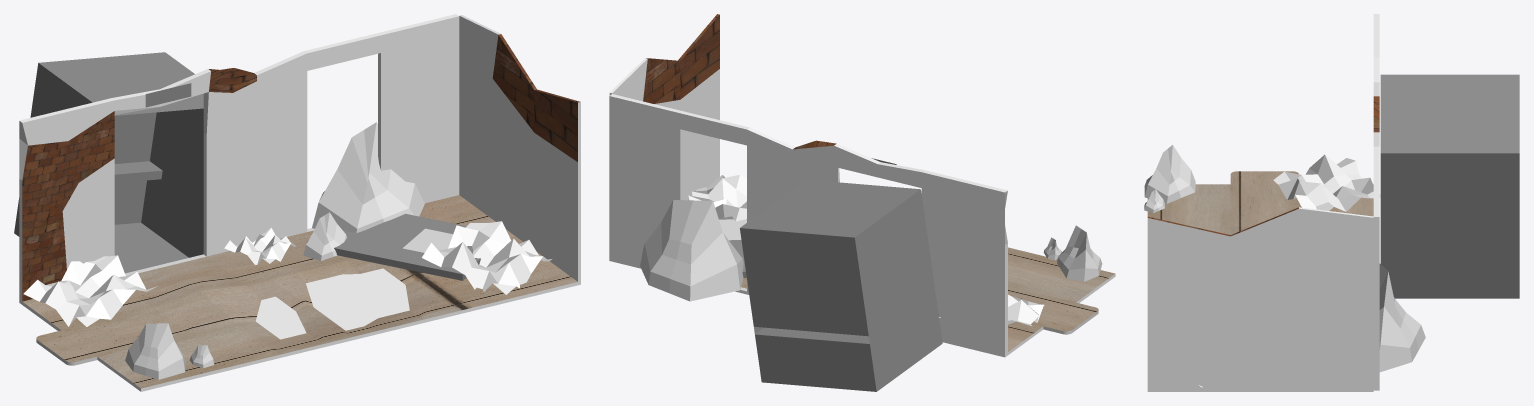
Rendered from pasillo_despues.glb.
The picture shows the model from 3 angles, left to right: view 1: azimuth 30°, elevation 25°; view 2: azimuth 150°, elevation 25°; view 3: azimuth 270°, elevation 25°; orthographic projection. The views are drawn at different scales.
Visible parts, largest first — view 1: Cubo, Cubo.001, Cubo.003, Plano subdividido.002, Plano subdividido, Cubo.002, Cubo.006, Plano subdividido.001, Cubo.004, Plano; view 2: Cubo, Cubo.001, Cubo.003, Plano subdividido.002, Cubo.006, Plano subdividido, Cubo.002; view 3: Cubo, Cubo.001, Plano subdividido, Cubo.003, Cubo.006, Cubo.005.
Boxes of the visible parts, <box> form: Cubo: <box>19,14,580,391</box>; Cubo.001: <box>14,52,203,273</box>; Cubo.003: <box>312,122,424,233</box>; Plano subdividido.002: <box>422,221,551,294</box>; Plano subdividido: <box>23,255,157,326</box>; Cubo.002: <box>334,213,480,280</box>; Cubo.006: <box>125,323,185,379</box>; Plano subdividido.001: <box>224,227,295,265</box>; Cubo.004: <box>303,212,346,260</box>; Plano: <box>145,83,191,107</box>; Cubo: <box>609,14,1115,357</box>; Cubo.001: <box>740,179,942,391</box>; Cubo.003: <box>640,200,743,301</box>; Plano subdividido.002: <box>688,175,746,221</box>; Cubo.006: <box>1057,225,1102,281</box>; Plano subdividido: <box>939,294,1044,326</box>; Cubo.002: <box>718,216,746,277</box>; Cubo: <box>1147,14,1379,391</box>; Cubo.001: <box>1380,74,1519,298</box>; Plano subdividido: <box>1273,154,1380,211</box>; Cubo.003: <box>1379,263,1425,372</box>; Cubo.006: <box>1144,145,1195,203</box>; Cubo.005: <box>1144,189,1164,212</box>.
Bounding box in the file's own units: 20.78 × 9.01 × 15.05.
5 materials, 2 textured.
